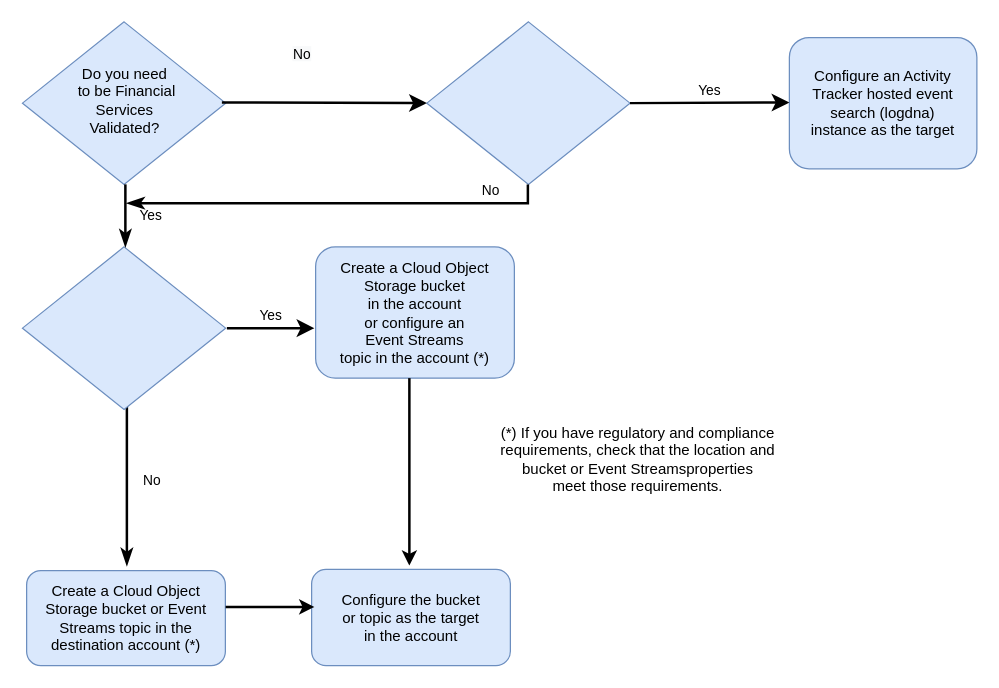
Image size: 999x688. Some labels were removed from this diagram. The shapes that lost their labels are listed below. From the top down, each one's box as (x1, y1, x2, y2) in pixels, then its label:
(426, 21, 630, 184): Do you need to monitor and search auditing events using the console?
(21, 246, 226, 409): Do you need to keep auditing events within the acount?
